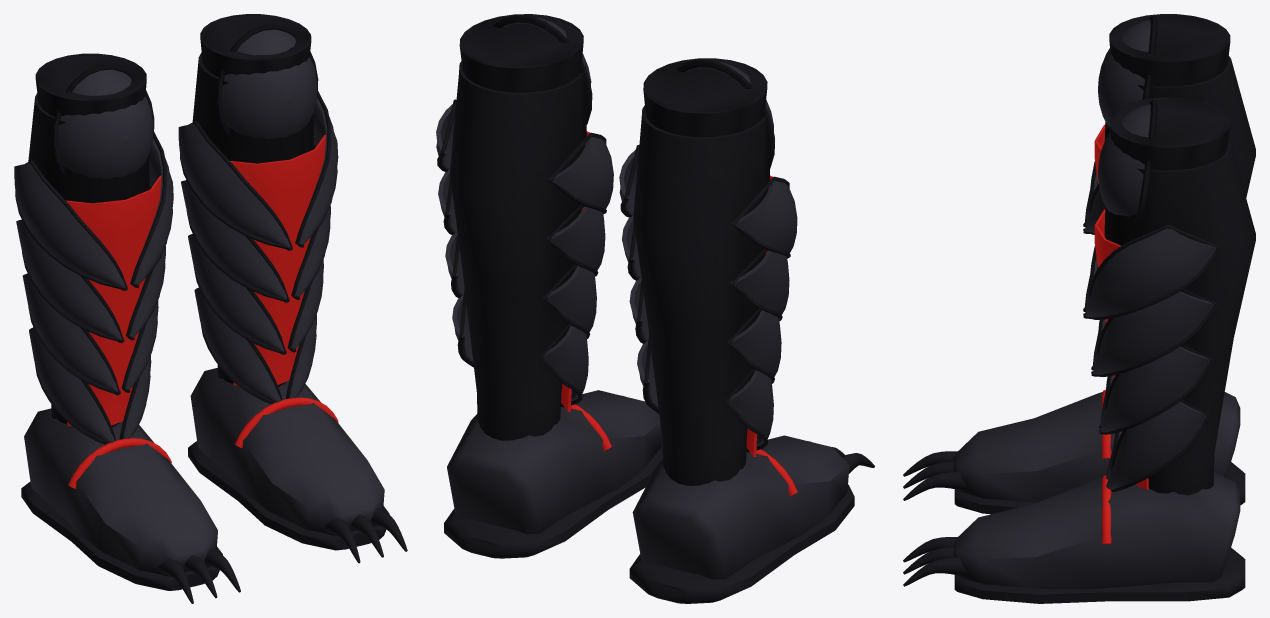
File: f_emberscale_f.glb
3 renders of one model, left to right at view 1: azimuth 30°, elevation 25°; view 2: azimuth 150°, elevation 25°; view 3: azimuth 270°, elevation 25°, orthographic. The views are drawn at different scales.
Parts seen in each view (by area): view 1: LegR_Boot, LegL_Boot, LegR_BootFoot, LegL_BootFoot, LegR_Shin, LegL_Shin; view 2: LegR_Shin, LegL_Shin, LegR_BootFoot, LegL_BootFoot, LegR_Boot, LegL_Boot; view 3: LegL_Boot, LegL_BootFoot, LegL_Shin, LegR_BootFoot, LegR_Boot, LegR_Shin.
Boxes of the visible parts, box(x1,y1,x2,y2) form: LegR_Boot: box(14, 53, 173, 444); LegL_Boot: box(178, 14, 338, 403); LegR_BootFoot: box(21, 408, 240, 603); LegL_BootFoot: box(188, 368, 407, 563); LegR_Shin: box(28, 93, 149, 427); LegL_Shin: box(192, 52, 313, 386); LegR_Shin: box(633, 105, 769, 485); LegL_Shin: box(449, 61, 586, 440); LegR_BootFoot: box(629, 435, 874, 603); LegL_BootFoot: box(444, 390, 662, 558); LegR_Boot: box(619, 58, 797, 456); LegL_Boot: box(436, 14, 613, 411); LegL_Boot: box(1083, 97, 1230, 492); LegL_BootFoot: box(903, 472, 1245, 603); LegL_Shin: box(1104, 140, 1255, 495); LegR_BootFoot: box(903, 389, 1245, 514); LegR_Boot: box(1083, 14, 1230, 234); LegR_Shin: box(1104, 55, 1255, 197).
Bounding box in the file's own units: 0.3926 × 0.5592 × 0.3731.
